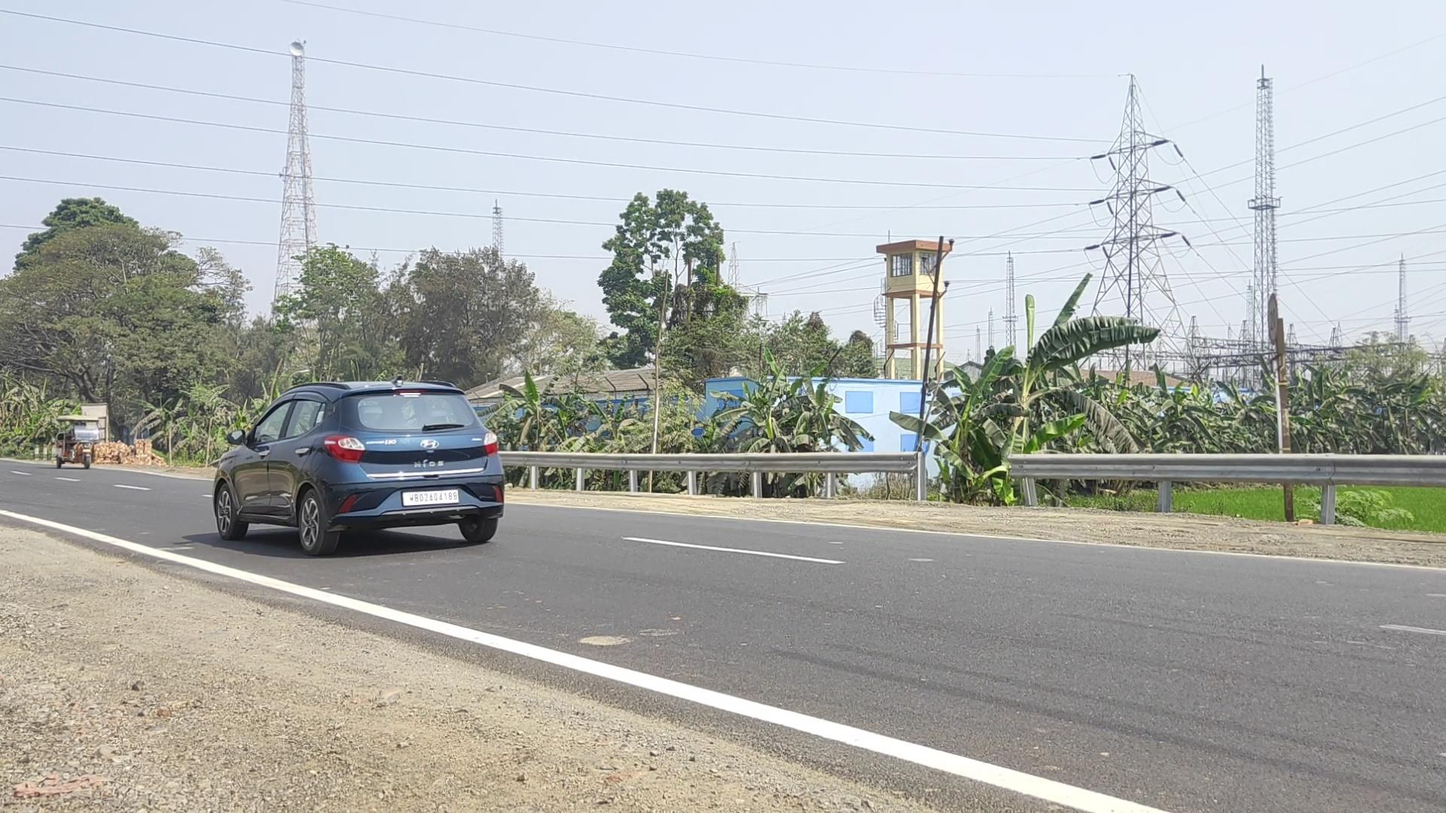Auto: (56, 415, 100, 470)
car: (212, 375, 505, 556)
